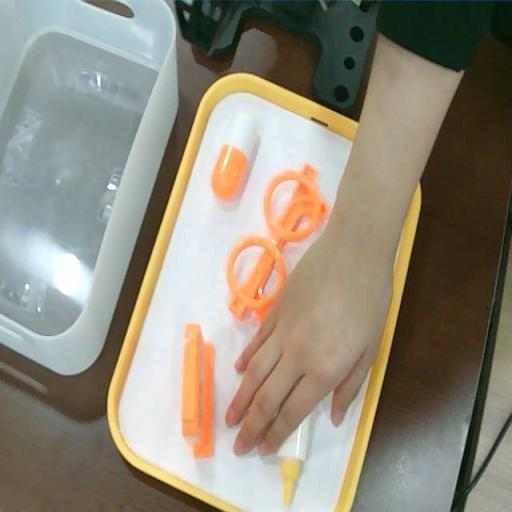hospital: (224, 234, 396, 460)
